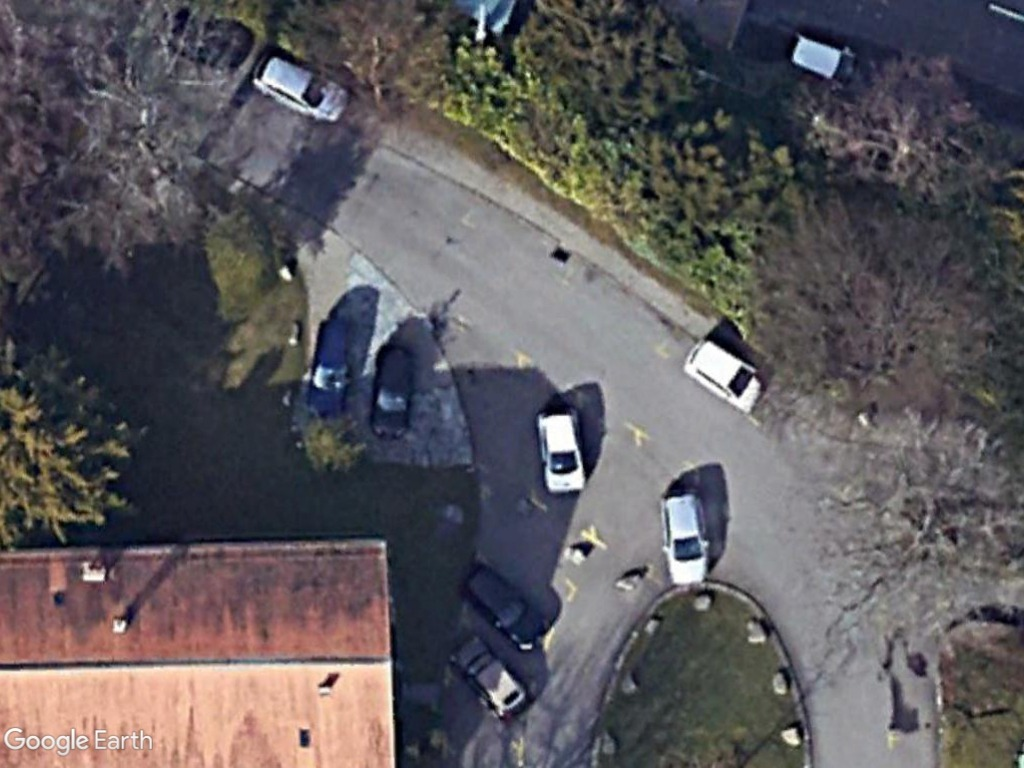car: (462, 564, 552, 653), (248, 48, 351, 125), (683, 333, 766, 415), (450, 638, 530, 717), (303, 315, 354, 423), (531, 406, 590, 495), (659, 487, 710, 587), (368, 343, 416, 441)
